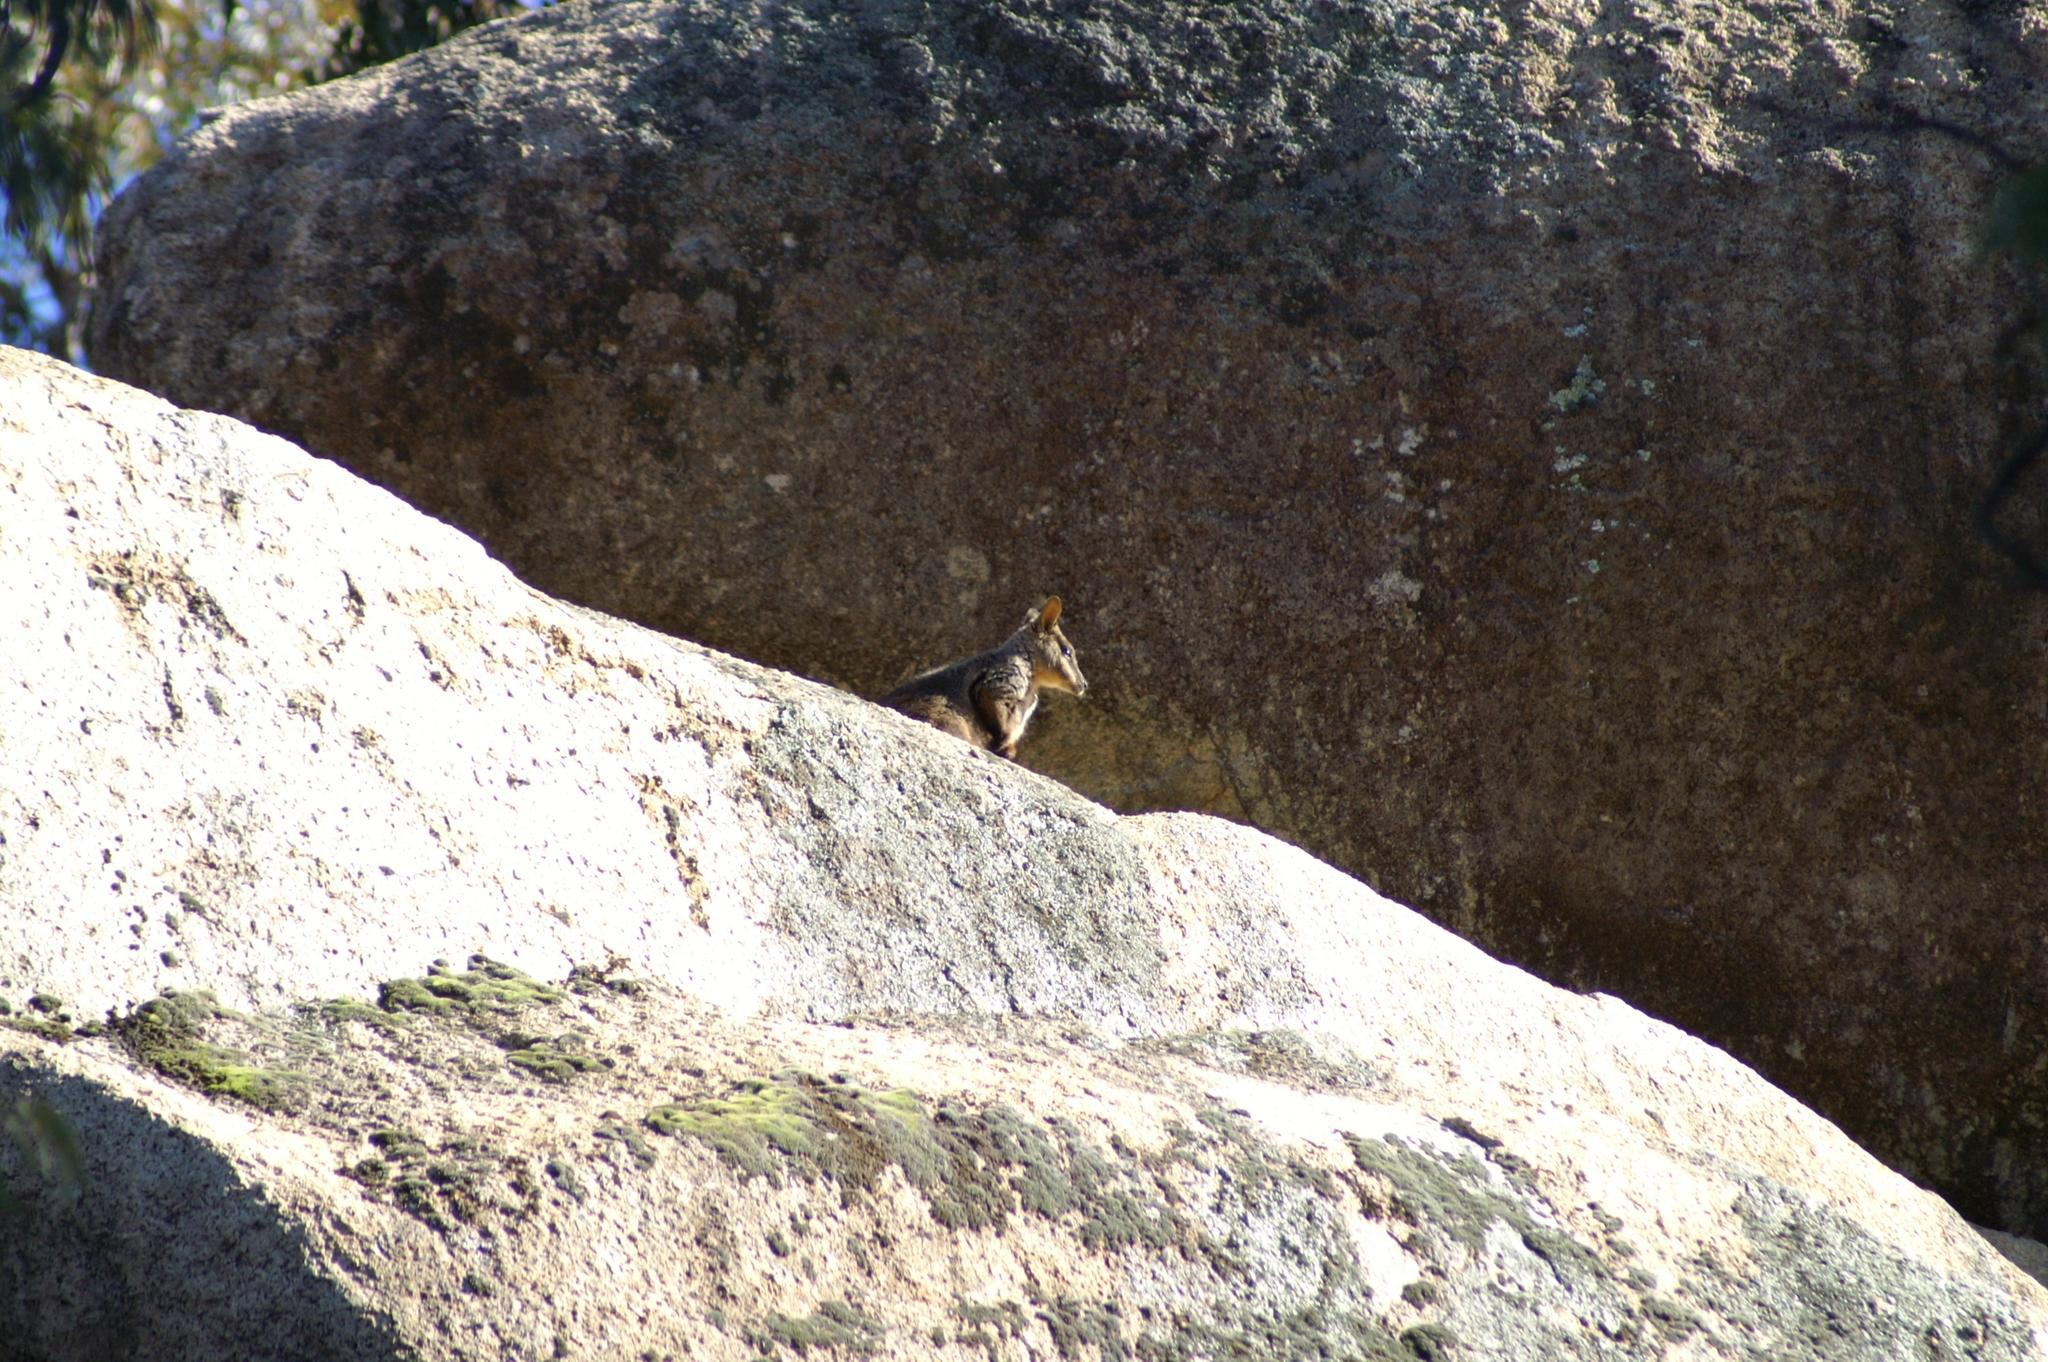Brush-tailed rock-wallaby: (877, 596, 1086, 775)
